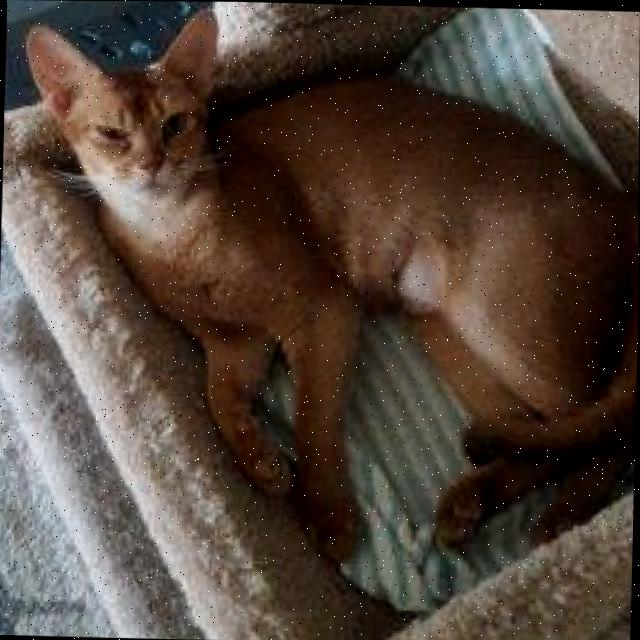Abyssinian: (10, 0, 640, 580)
